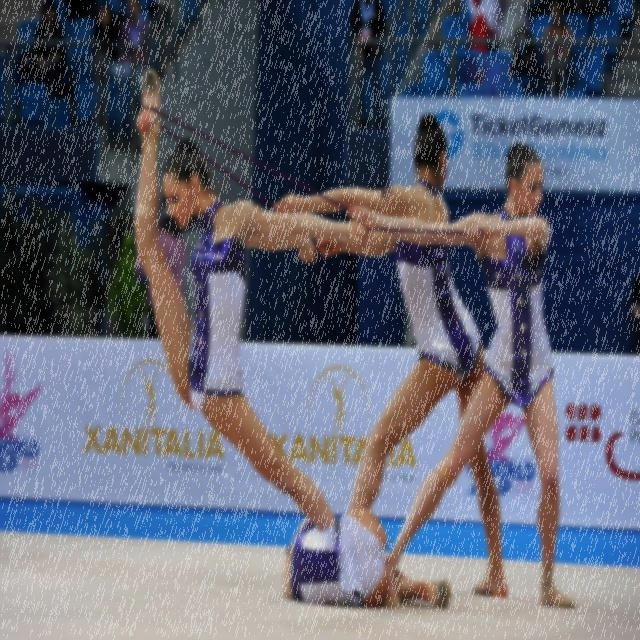pessoa: (271, 111, 510, 604), (132, 63, 376, 530), (344, 136, 580, 614), (280, 507, 452, 611), (134, 198, 198, 338), (346, 0, 390, 141), (33, 0, 67, 100), (118, 0, 150, 65), (89, 1, 120, 64), (544, 1, 572, 38), (630, 266, 640, 359), (148, 1, 168, 27)
